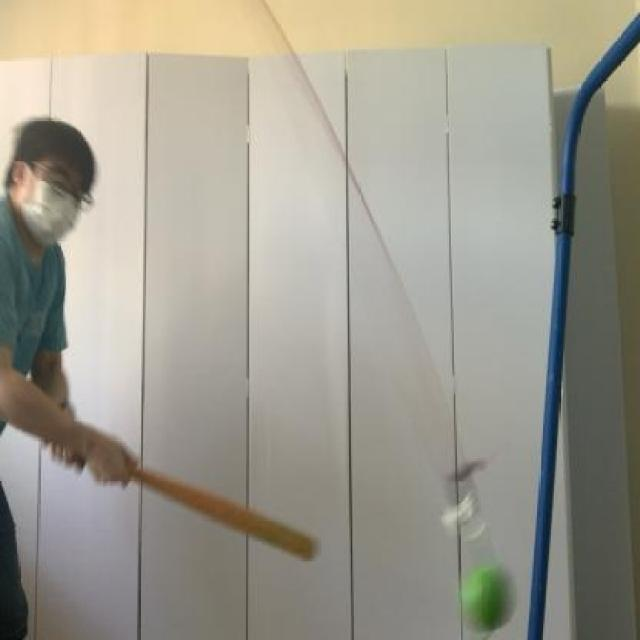baseball: (457, 561, 517, 637)
